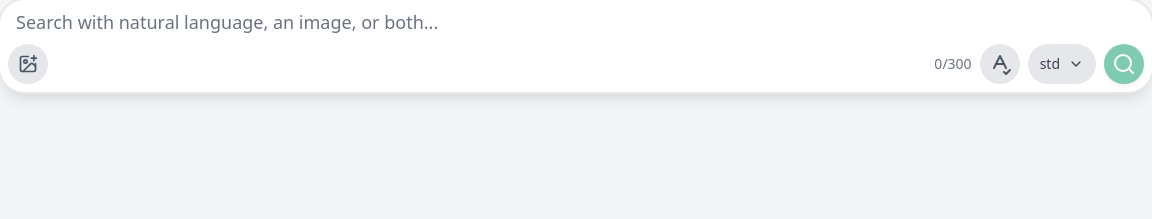
Test: SearchBar component › allows mode changing
The image size is (1152, 219).
Click the button with aria-label "current mode: std": coordinates (1062, 64) [1028,44,1096,84]
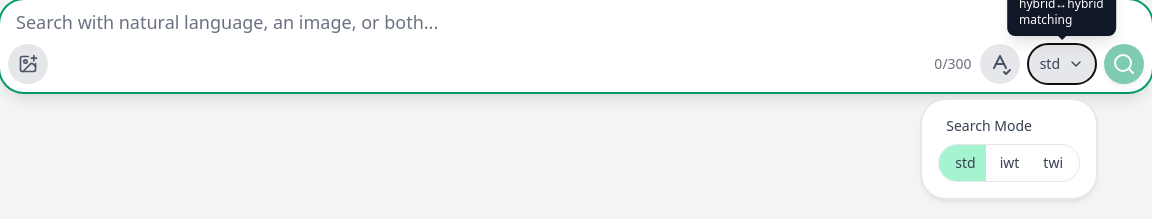
Now the button "iwt" is shown, box [988,149,1031,177]
Now the button "twi" is shown, box [1031,149,1075,177]
